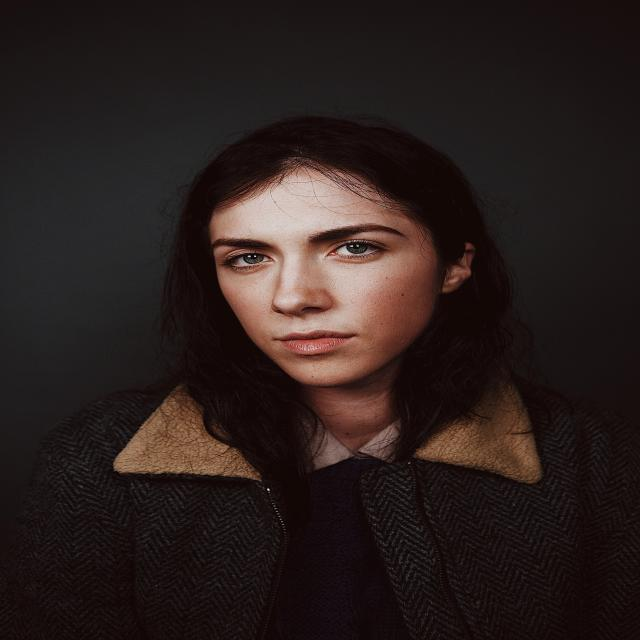adult: (0, 118, 635, 640)
